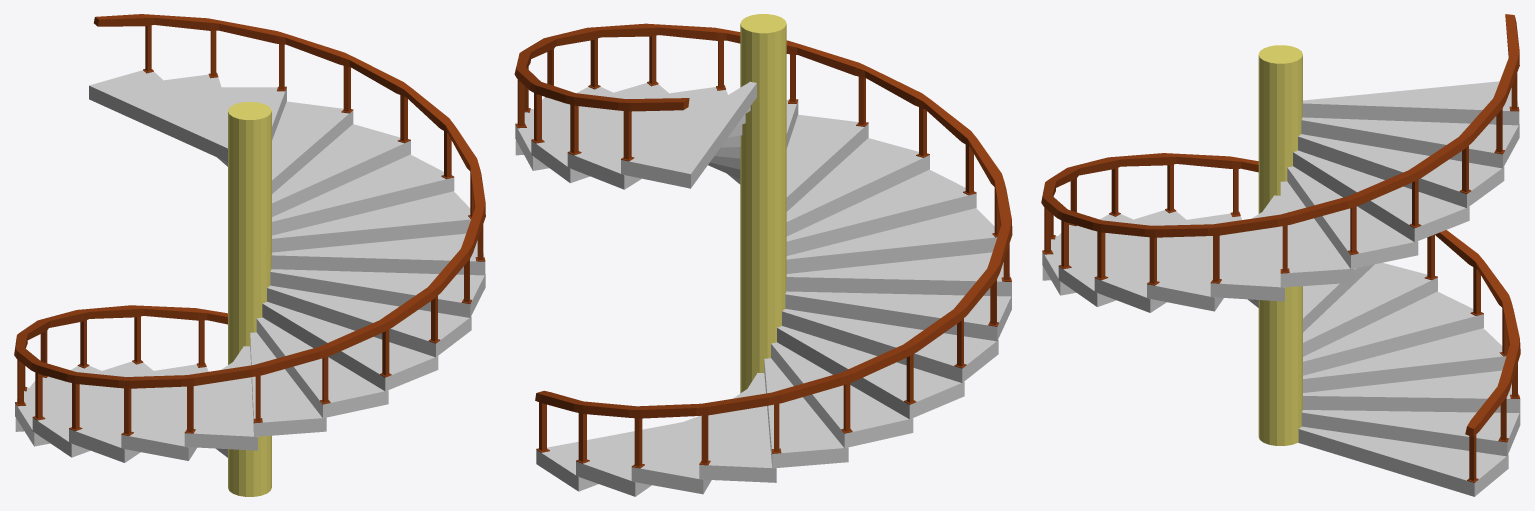
File: escaleras.glb
The picture shows the model from 3 angles, left to right: view 1: azimuth 30°, elevation 25°; view 2: azimuth 150°, elevation 25°; view 3: azimuth 270°, elevation 25°; orthographic projection. The views are drawn at different scales.
Parts seen in each view (by area): view 1: Escaleras, Cylinder; view 2: Escaleras, Cylinder; view 3: Escaleras, Cylinder.
Boxes of the visible parts, x1=… form: Escaleras: x1=14, y1=14, x2=485, y2=462; Cylinder: x1=228, y1=102, x2=271, y2=496; Escaleras: x1=514, y1=23, x2=1012, y2=496; Cylinder: x1=740, y1=14, x2=786, y2=393; Escaleras: x1=1041, y1=14, x2=1520, y2=496; Cylinder: x1=1258, y1=45, x2=1302, y2=445.
Bounding box in the file's own units: 2 × 1.86 × 2.
